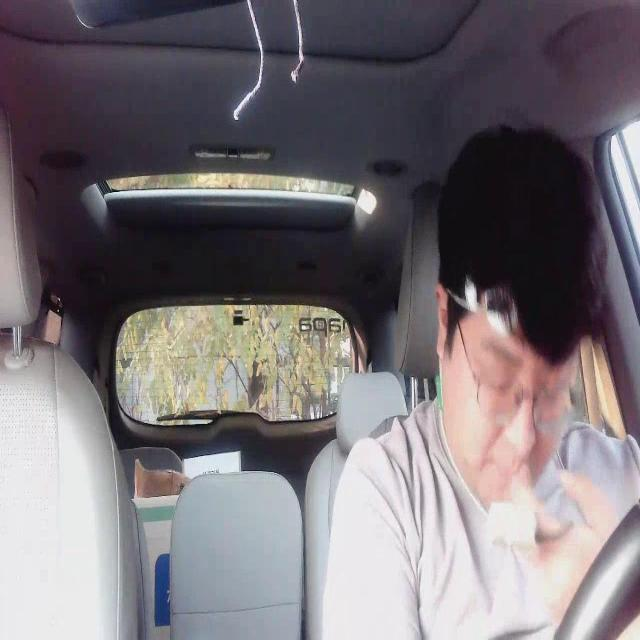Inattentive: (430, 126, 611, 512)
